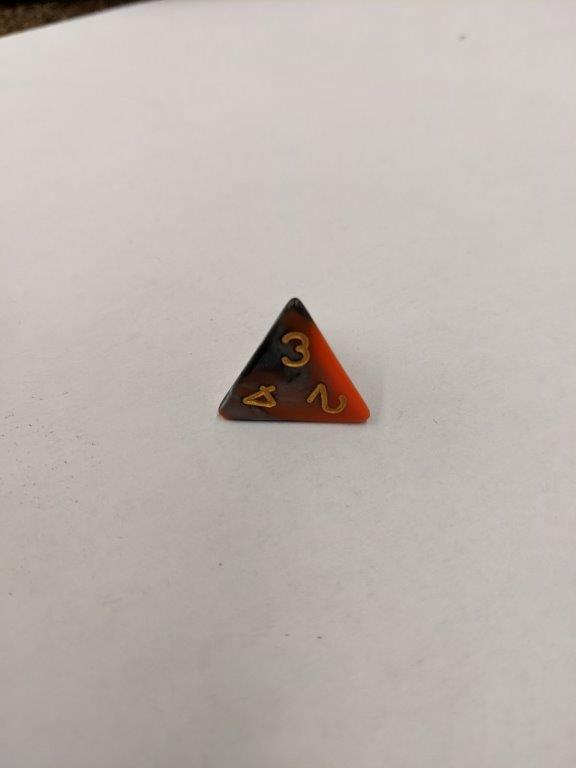d4-3: (213, 296, 377, 434)
